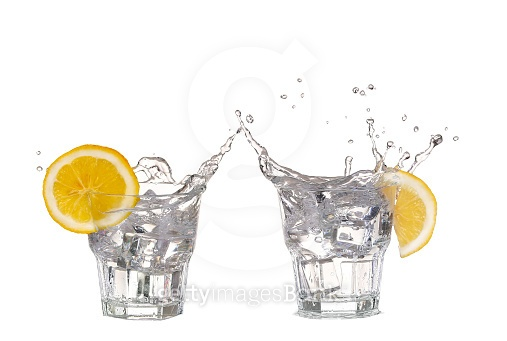glass of water: (251, 130, 412, 325), (58, 135, 224, 322)
